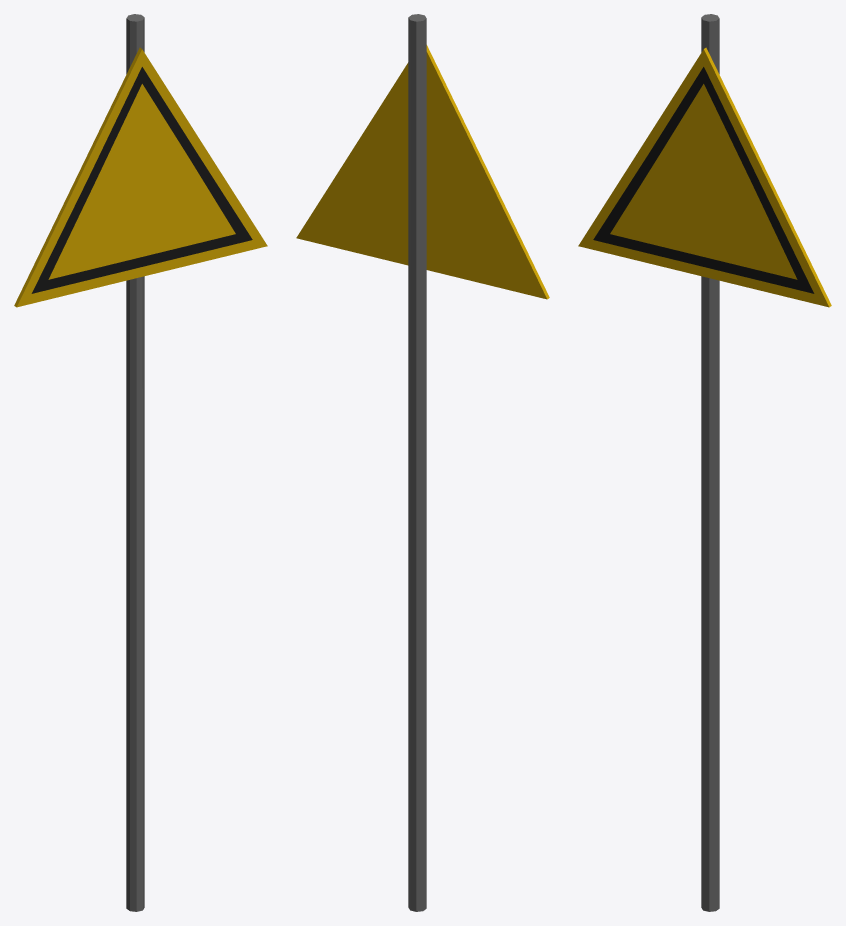
Rendered from Sign_Caution.fbx.
The picture shows the model from 3 angles, left to right: view 1: azimuth 30°, elevation 25°; view 2: azimuth 150°, elevation 25°; view 3: azimuth 330°, elevation 25°; orthographic projection.
Parts seen in each view (by area): view 1: polySurface2; view 2: polySurface2; view 3: polySurface2.
Boxes of the visible parts, x1,y1,x2,y2 form: polySurface2: (14, 14, 267, 911); polySurface2: (296, 14, 549, 911); polySurface2: (578, 14, 831, 911).
Size of the model in its own units: 70.52 by 239 by 5.3.
